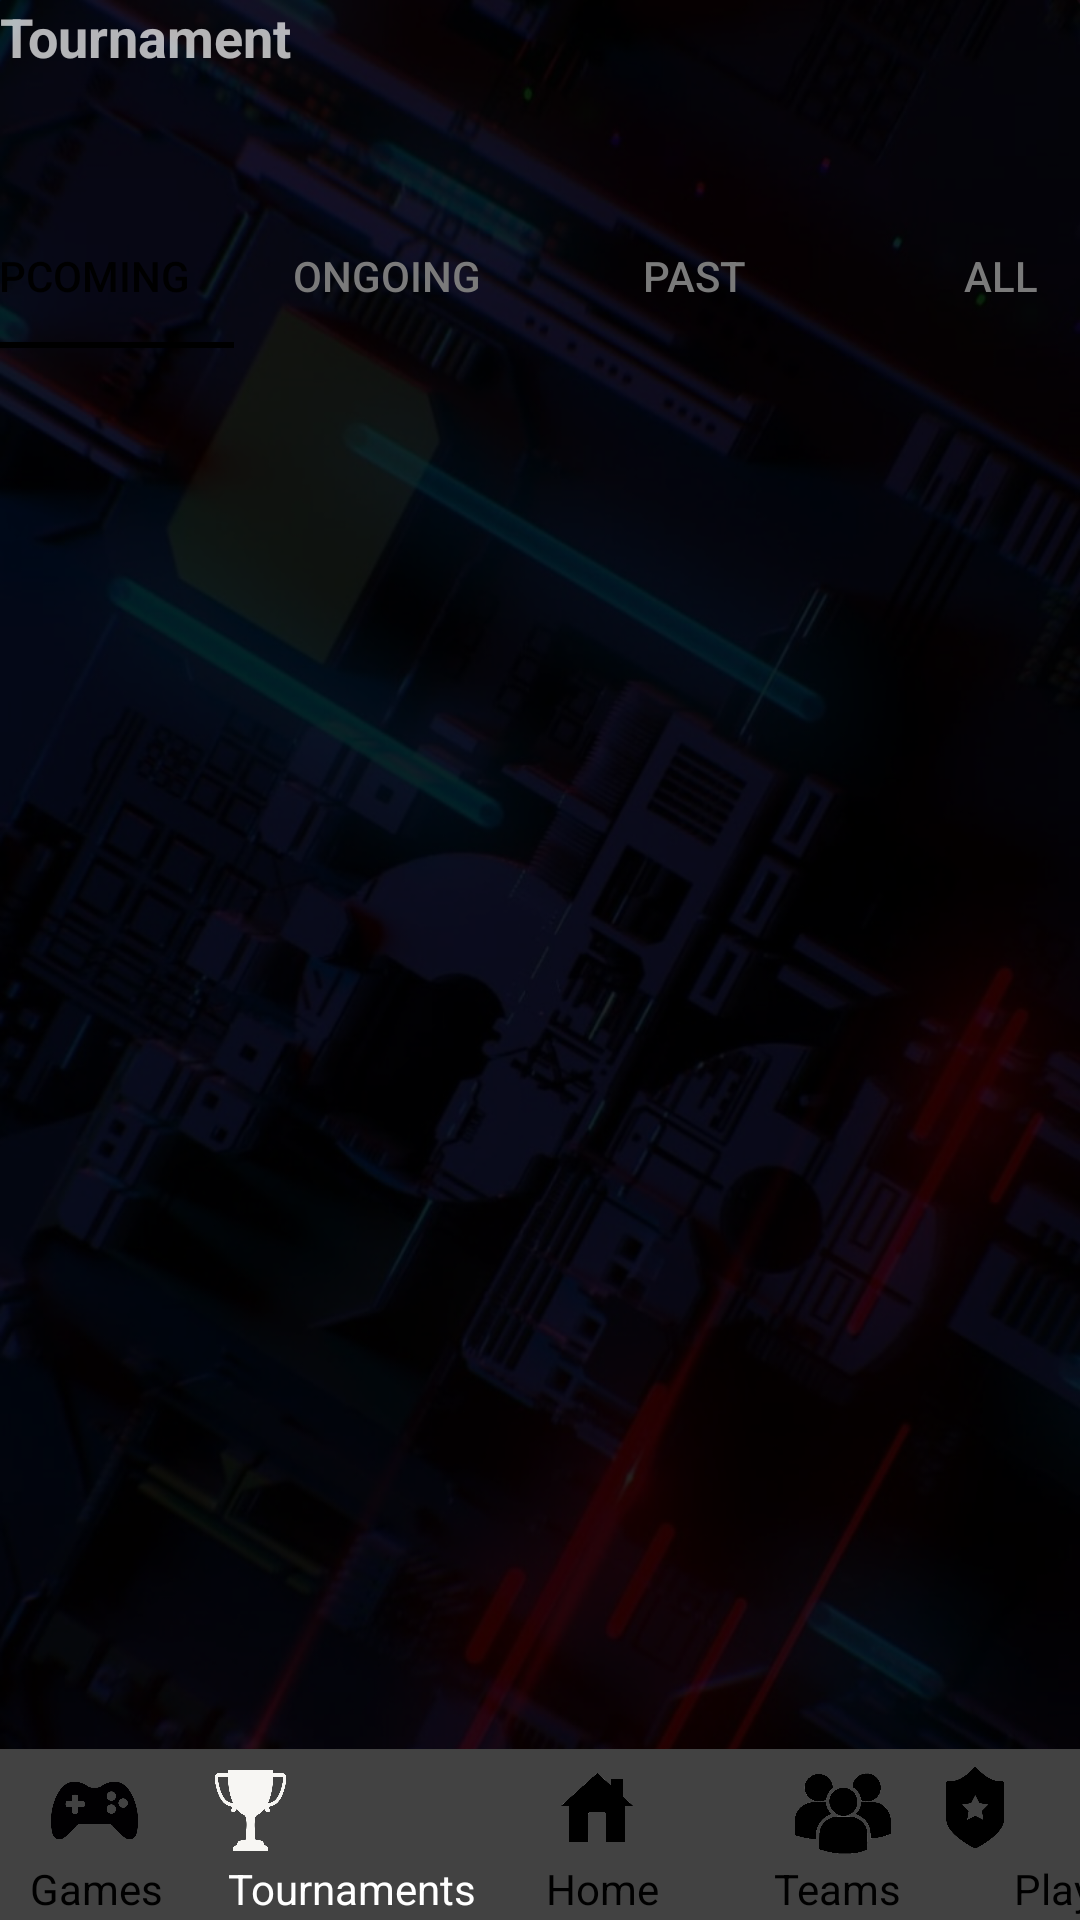

Locate icon controls on the screen. Image size 1080×1920, boxes as detection(x1, y1, x2, y2).
rank: detection(946, 1767, 1004, 1848)
